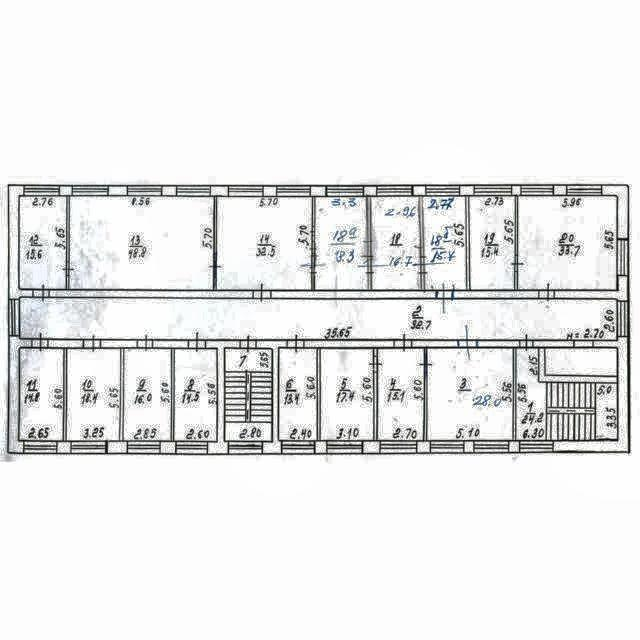room: (20, 298, 616, 341), (69, 197, 212, 290), (518, 198, 617, 289), (516, 349, 616, 439), (217, 197, 312, 289), (427, 348, 513, 440), (321, 348, 373, 441), (315, 197, 368, 288), (67, 349, 119, 441), (371, 197, 420, 289), (19, 197, 66, 289), (125, 348, 171, 441), (377, 348, 423, 441), (225, 350, 272, 441), (470, 197, 516, 289), (423, 197, 467, 289), (19, 348, 62, 441), (175, 348, 216, 440), (280, 350, 317, 440)
